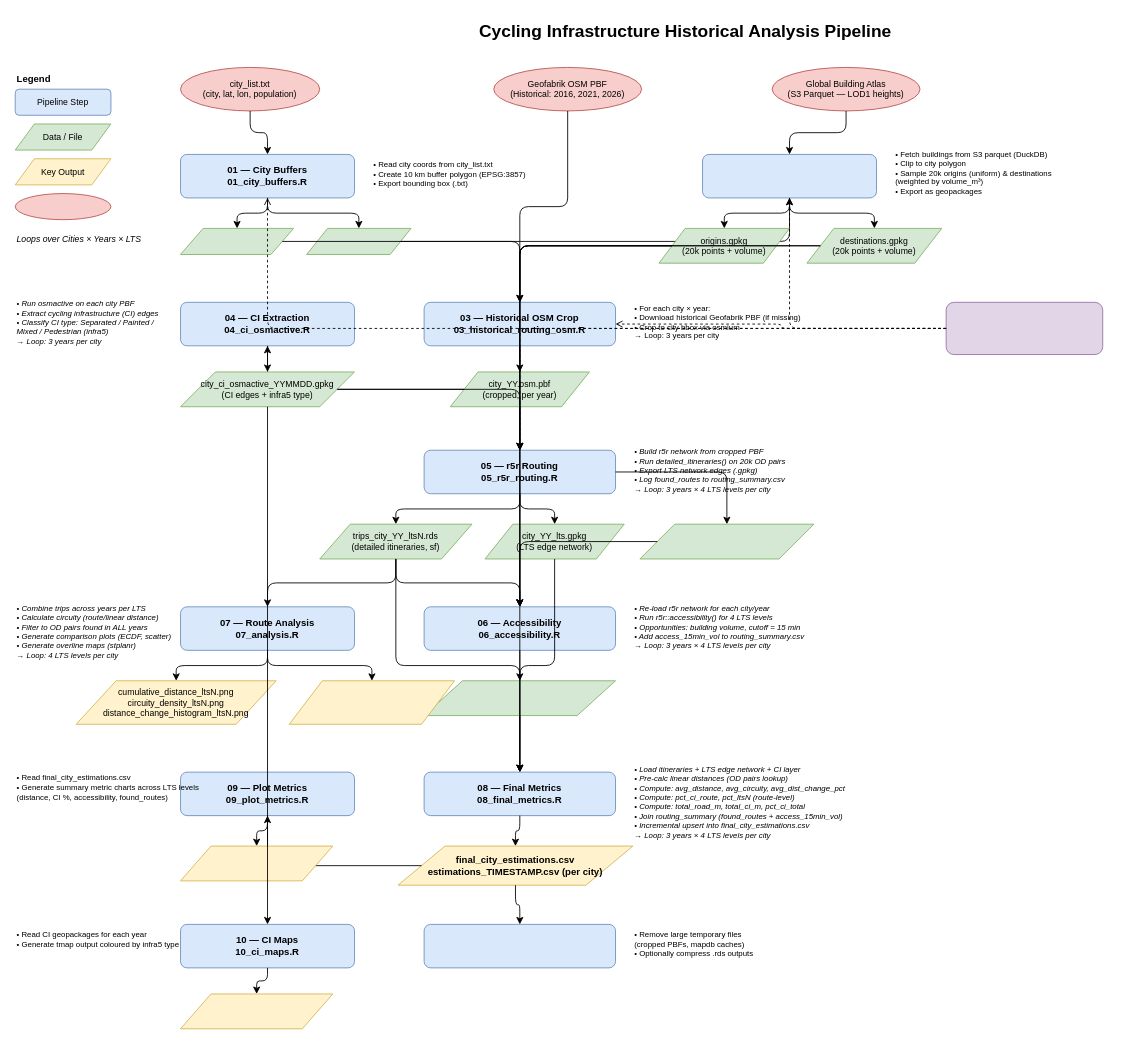
The diagram is 1144 pixels wide and 1044 high, and some of its shapes have lost their labels. Each missing label, with the box of its shape:
02 — OD Data 02_od_data.R: (702, 154, 877, 198)
11 — Tidy Up 11_tidy_up.R: (423, 924, 616, 968)
ci_map_YYMM.png (per city/year): (180, 993, 333, 1029)
city_10km.gpkg: (180, 228, 294, 254)
city_bbox.txt: (306, 228, 411, 254)
config.R (cities, years, java_mem, n_od_pairs, FORCE_RERUN): (945, 301, 1103, 355)
External Source: (14, 193, 111, 220)
metric_plots/ (PNG charts per city/metric): (180, 845, 333, 881)
overline_map_ltsN.png routing_differences_ltsN.csv: (288, 680, 455, 724)
routing_summary.csv (city, year, lts, found_routes): (639, 523, 814, 559)
routing_summary.csv (updated) + access_15min_vol per city/year/lts: (423, 680, 616, 716)
